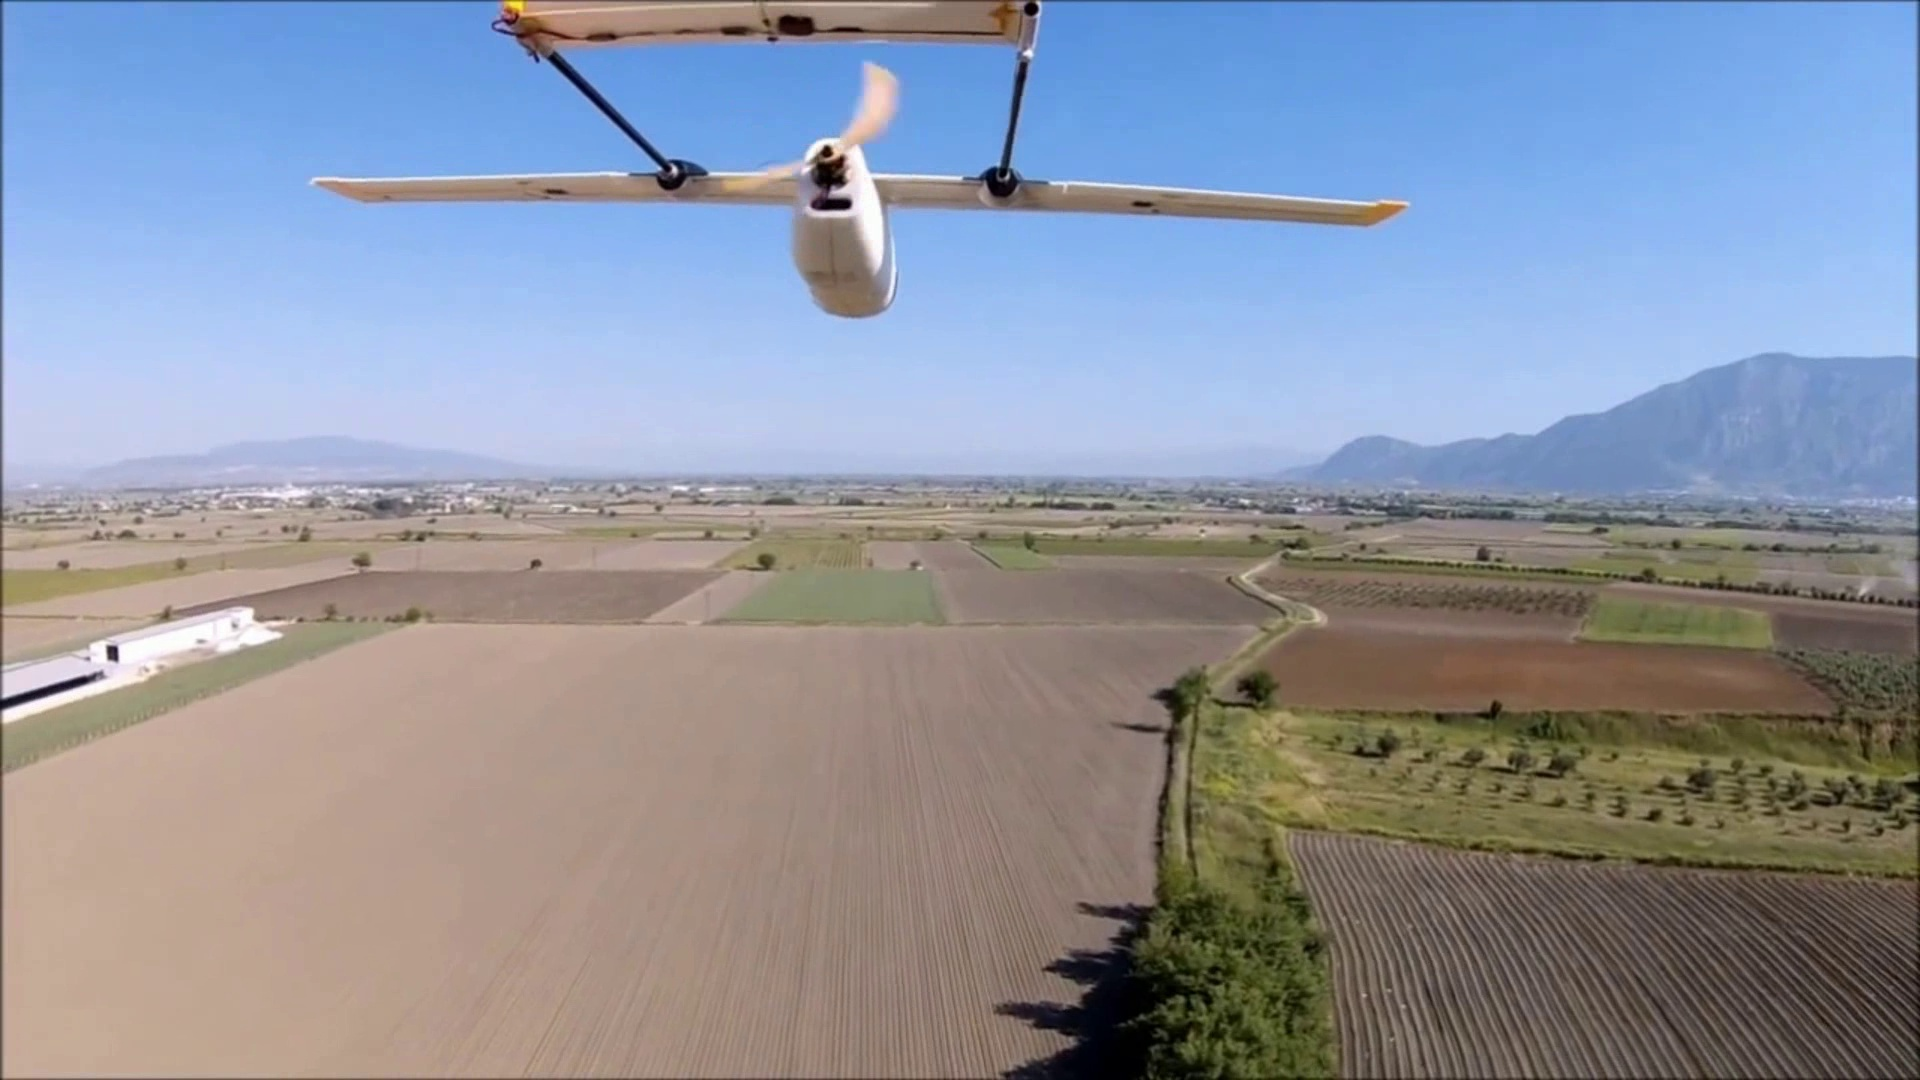airplane: (314, 4, 1407, 320)
